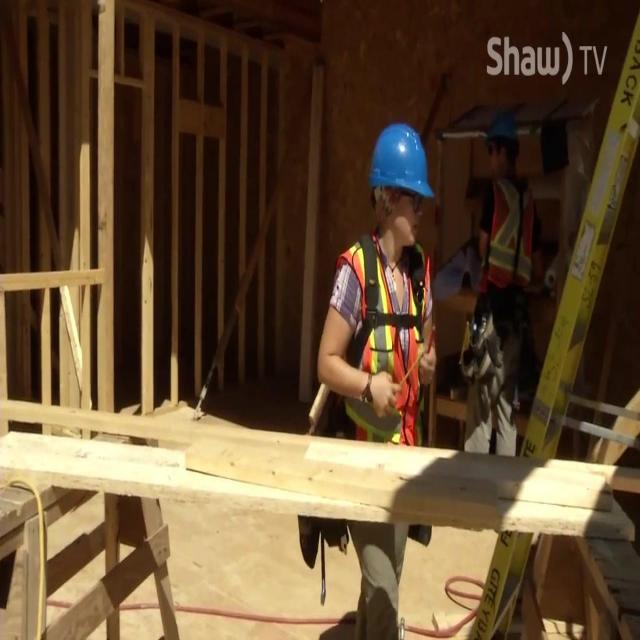vest: (338, 236, 430, 446), (480, 174, 532, 299)
